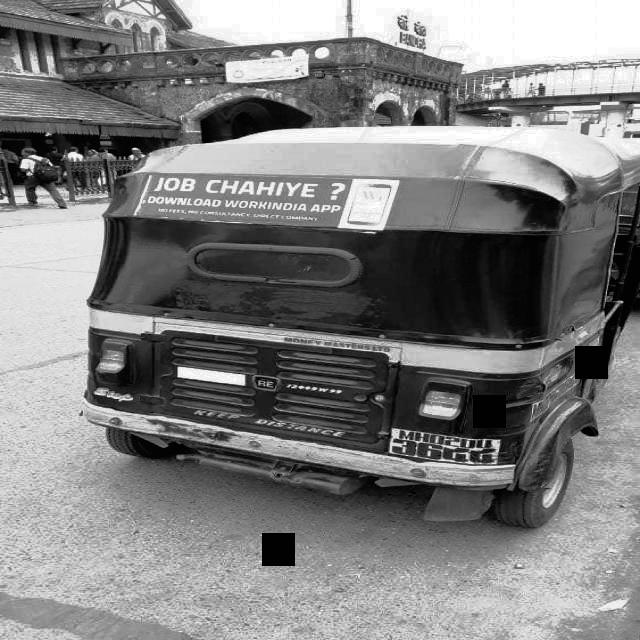Auto-Rickshaw: (83, 123, 640, 531)
